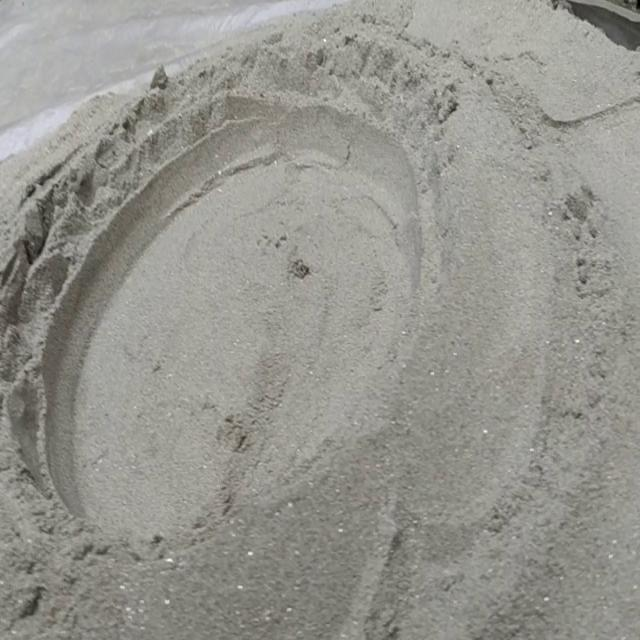C40: (34, 102, 422, 534)
